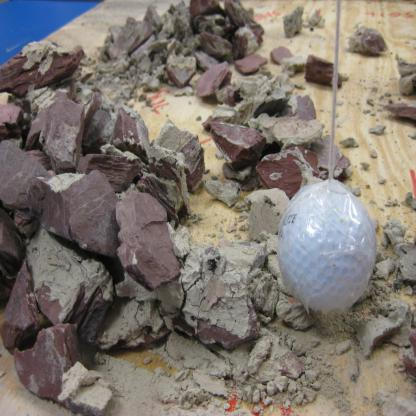Ball: (278, 179, 378, 314)
